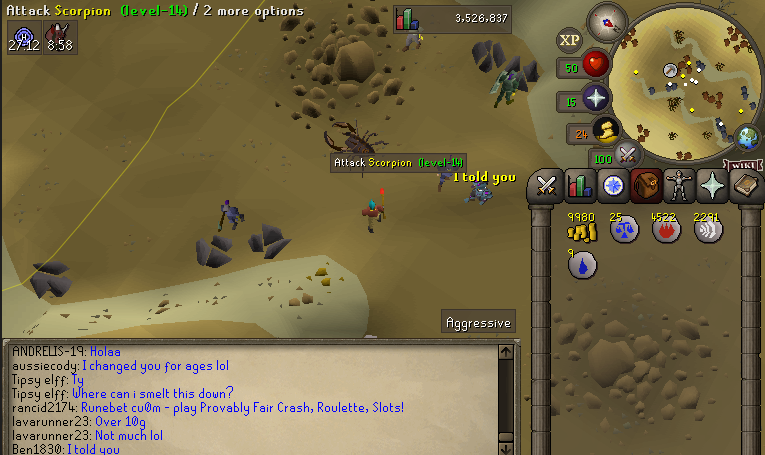depleted: (247, 218, 294, 261), (189, 228, 236, 271), (27, 254, 74, 297), (495, 50, 542, 93), (467, 35, 508, 73)
